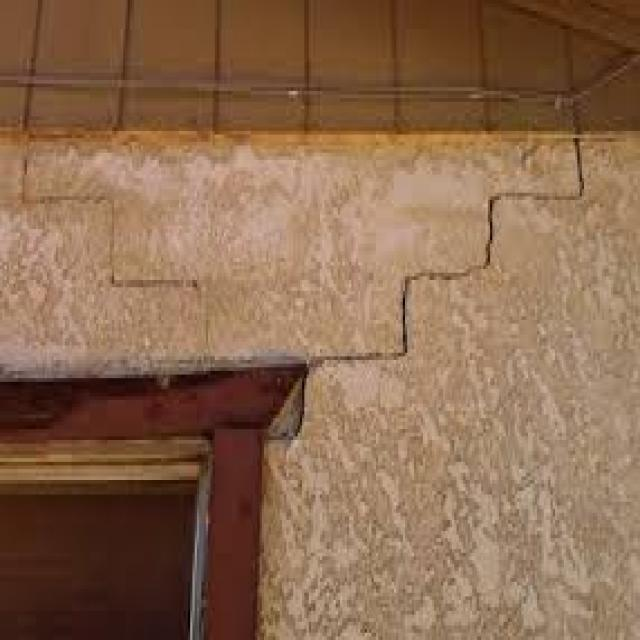Crack: (304, 131, 586, 367), (16, 138, 206, 349)
